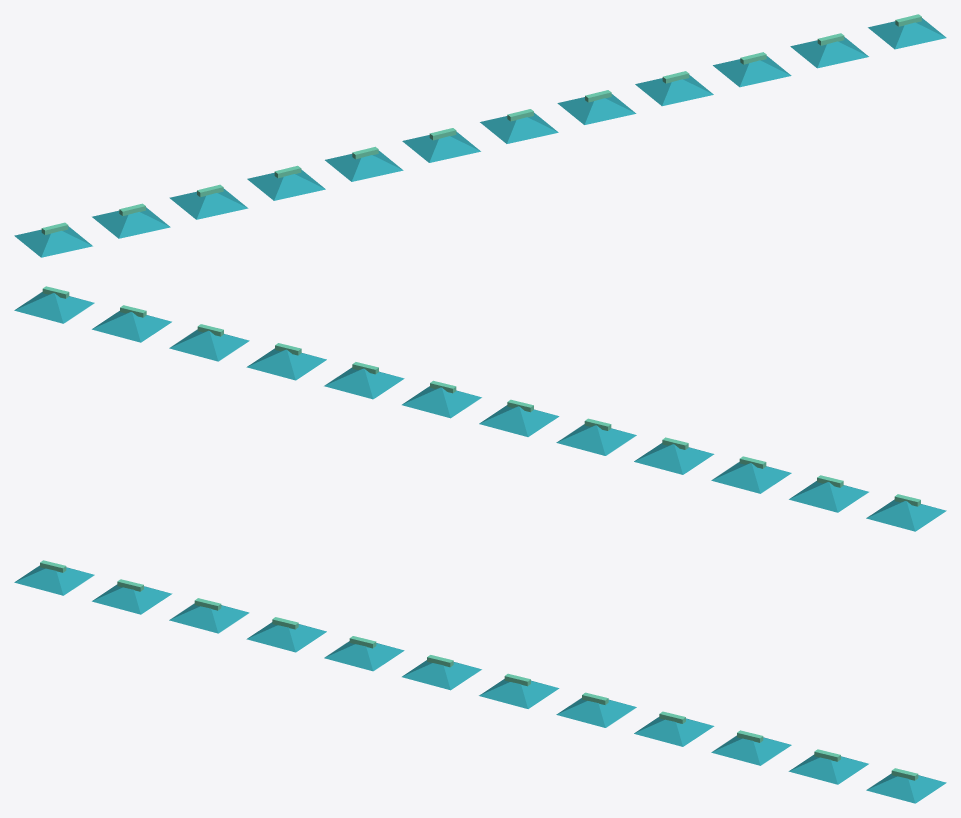
Rendered from swell.glb.
The picture shows the model from 3 angles, top to bottom: view 1: azimuth 30°, elevation 25°; view 2: azimuth 150°, elevation 25°; view 3: azimuth 330°, elevation 25°; orthographic projection.
Visible parts, largest first — view 1: W9, W4, W10, W11, W2, W0, W1, W3, W5, W6, W8, W7; view 2: W3, W10, W5, W8, W7, W0, W4, W9, W1, W2, W11, W6; view 3: W3, W8, W0, W1, W10, W9, W11, W4, W5, W7, W2, W6.
Boxes of the visible parts, left/top/right/bottom form: W9: left=713, top=56, right=791, bottom=87; W4: left=325, top=150, right=403, bottom=181; W10: left=790, top=37, right=868, bottom=68; W11: left=868, top=18, right=946, bottom=49; W2: left=169, top=188, right=248, bottom=219; W0: left=14, top=226, right=92, bottom=257; W1: left=92, top=207, right=170, bottom=238; W3: left=247, top=169, right=325, bottom=200; W5: left=402, top=131, right=480, bottom=162; W6: left=480, top=112, right=558, bottom=143; W8: left=635, top=75, right=713, bottom=106; W7: left=557, top=94, right=636, bottom=124; W3: left=634, top=443, right=714, bottom=474; W10: left=92, top=311, right=171, bottom=342; W5: left=479, top=405, right=559, bottom=436; W8: left=246, top=348, right=326, bottom=380; W7: left=324, top=367, right=404, bottom=399; W0: left=866, top=499, right=946, bottom=531; W4: left=556, top=424, right=636, bottom=455; W9: left=169, top=329, right=249, bottom=361; W1: left=789, top=481, right=868, bottom=512; W2: left=711, top=462, right=791, bottom=493; W11: left=14, top=292, right=94, bottom=323; W6: left=402, top=386, right=481, bottom=418; W3: left=246, top=622, right=326, bottom=652; W8: left=634, top=717, right=714, bottom=746; W0: left=14, top=565, right=94, bottom=595; W1: left=92, top=584, right=172, bottom=614; W10: left=788, top=754, right=868, bottom=784; W9: left=711, top=735, right=791, bottom=765; W11: left=866, top=773, right=946, bottom=803; W4: left=324, top=641, right=404, bottom=671; W5: left=402, top=660, right=481, bottom=690; W7: left=556, top=698, right=636, bottom=727; W2: left=169, top=603, right=249, bottom=633; W6: left=479, top=679, right=559, bottom=708.
Size of the model in its own units: 18.7 by 0.305 by 1.1.
